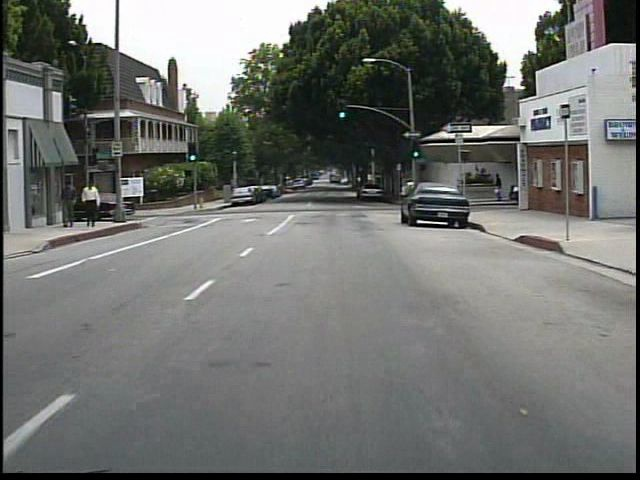person: (87, 179, 109, 229), (62, 180, 83, 231), (489, 170, 507, 205)
